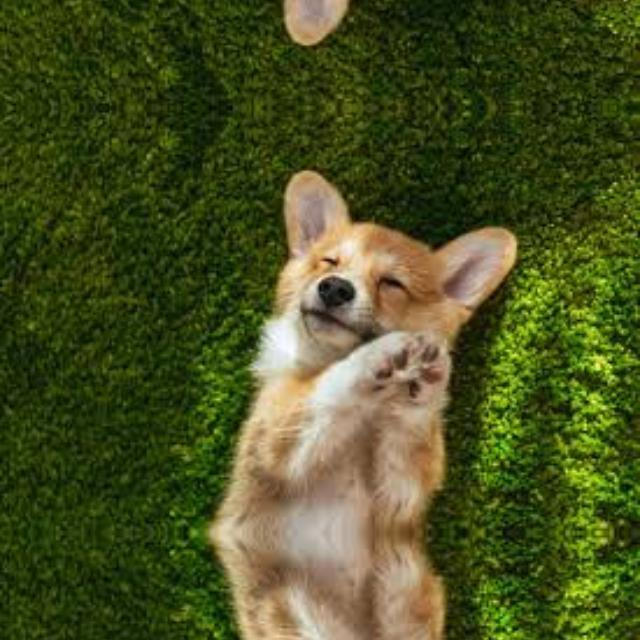dog: (241, 146, 524, 388), (240, 0, 523, 68)
